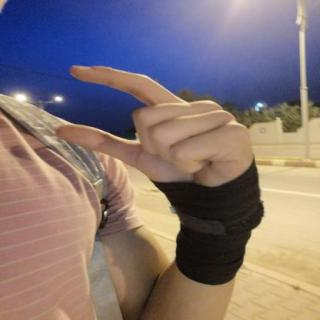DELL: (43, 55, 265, 212)
